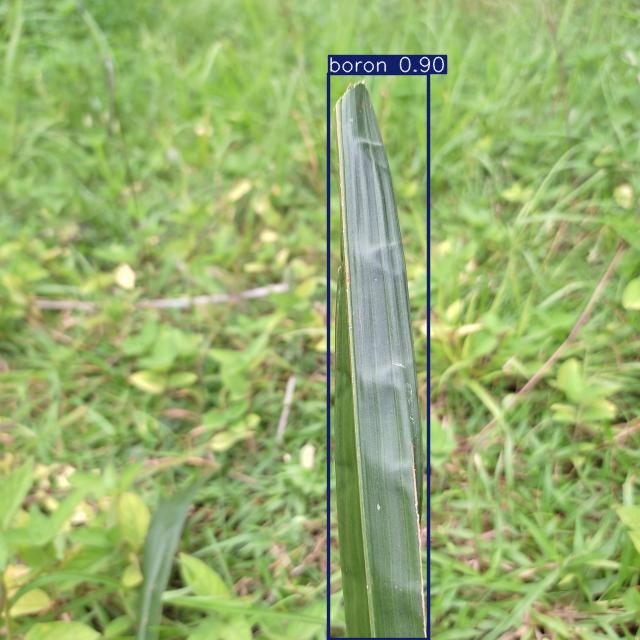nitrogen: (329, 73, 428, 640)
